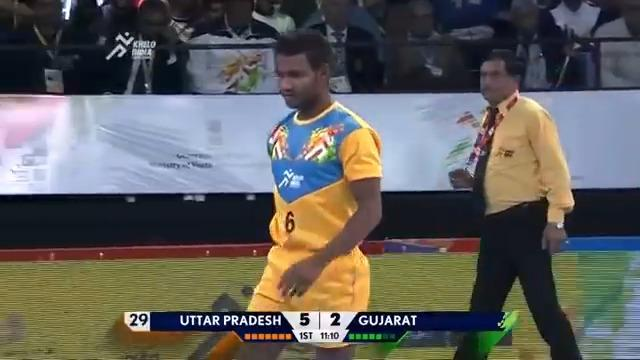Raider: (230, 28, 384, 357)
referee: (446, 48, 584, 358)
